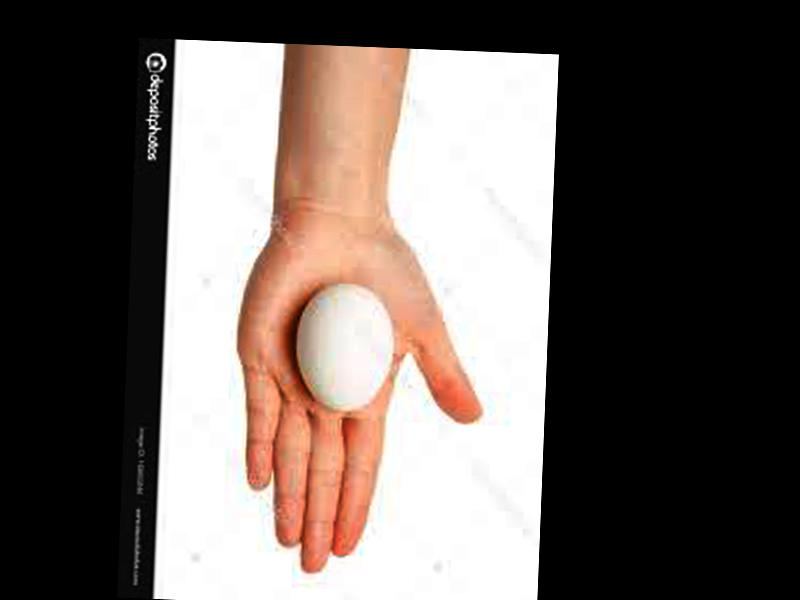Eggs: (298, 282, 393, 413)
